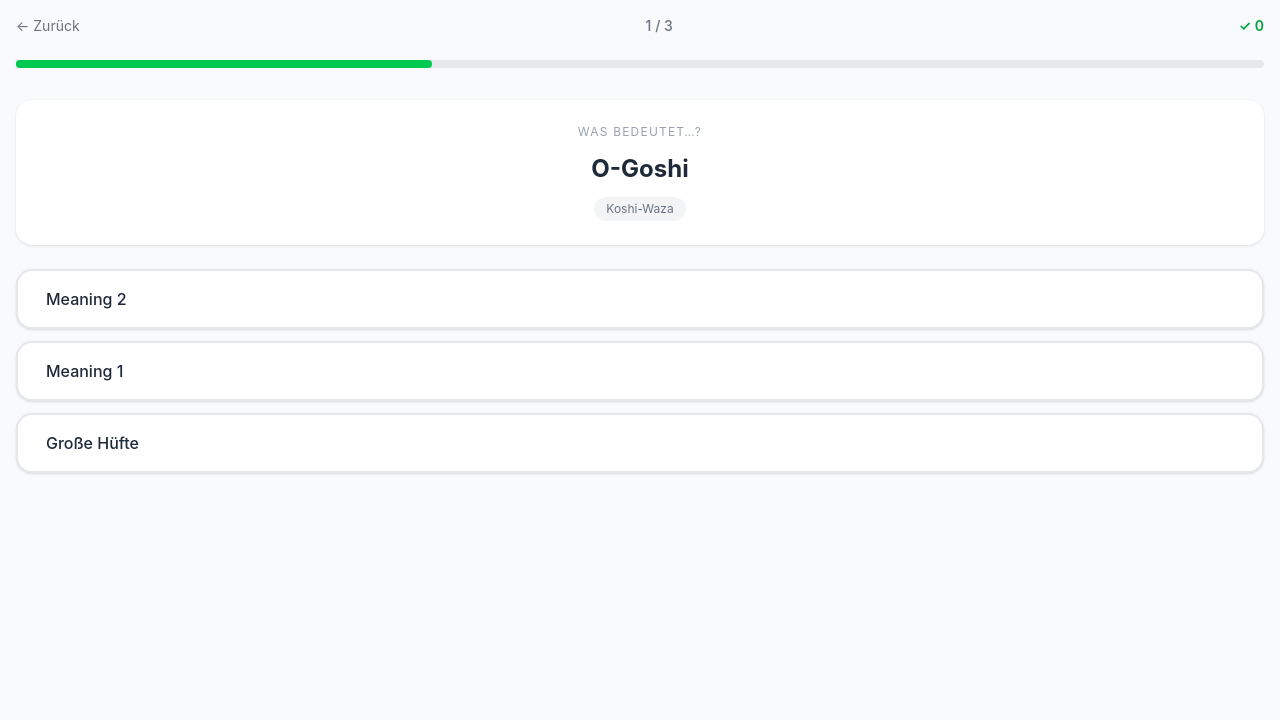
Quiz – score screen › shows 100% when all answers are correct
This screenshot has width=1280, height=720.
Step 1. Click the button with test id "choice-correct" → point(92, 443), box left=16, top=413, right=1264, bottom=473
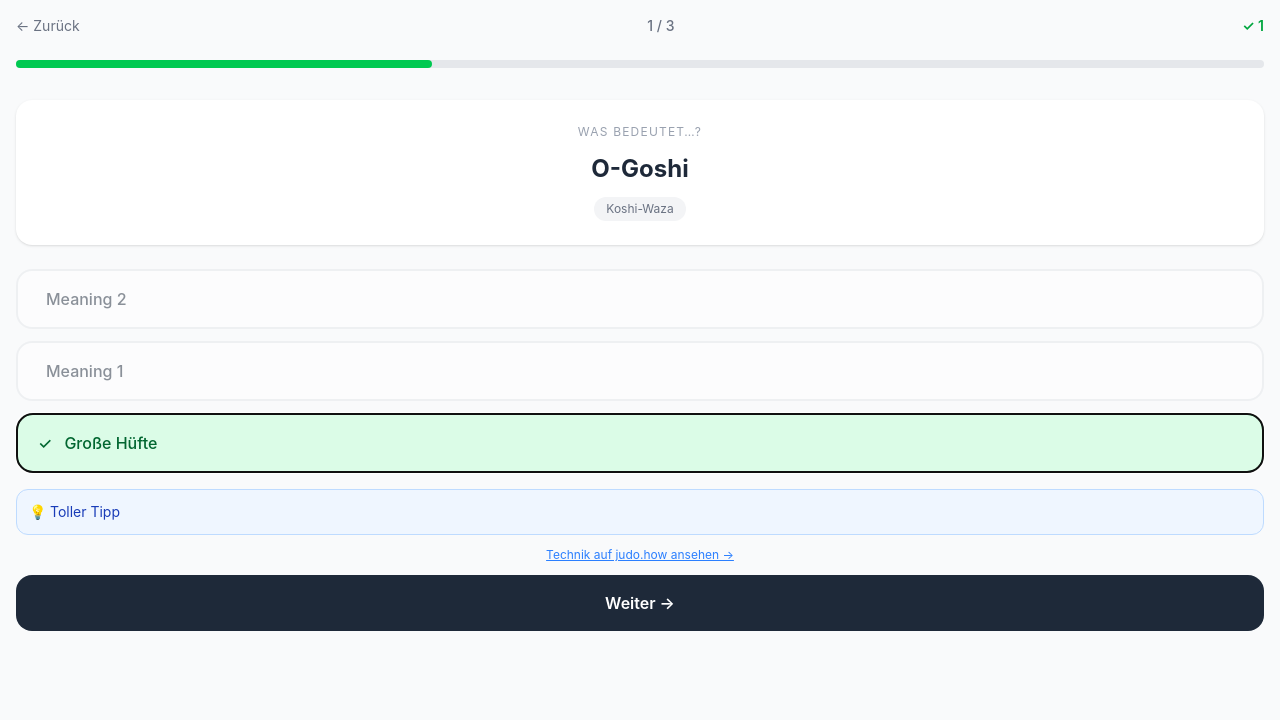
Step 2. Click the button with test id "next-btn" → point(640, 603), box left=16, top=575, right=1264, bottom=631
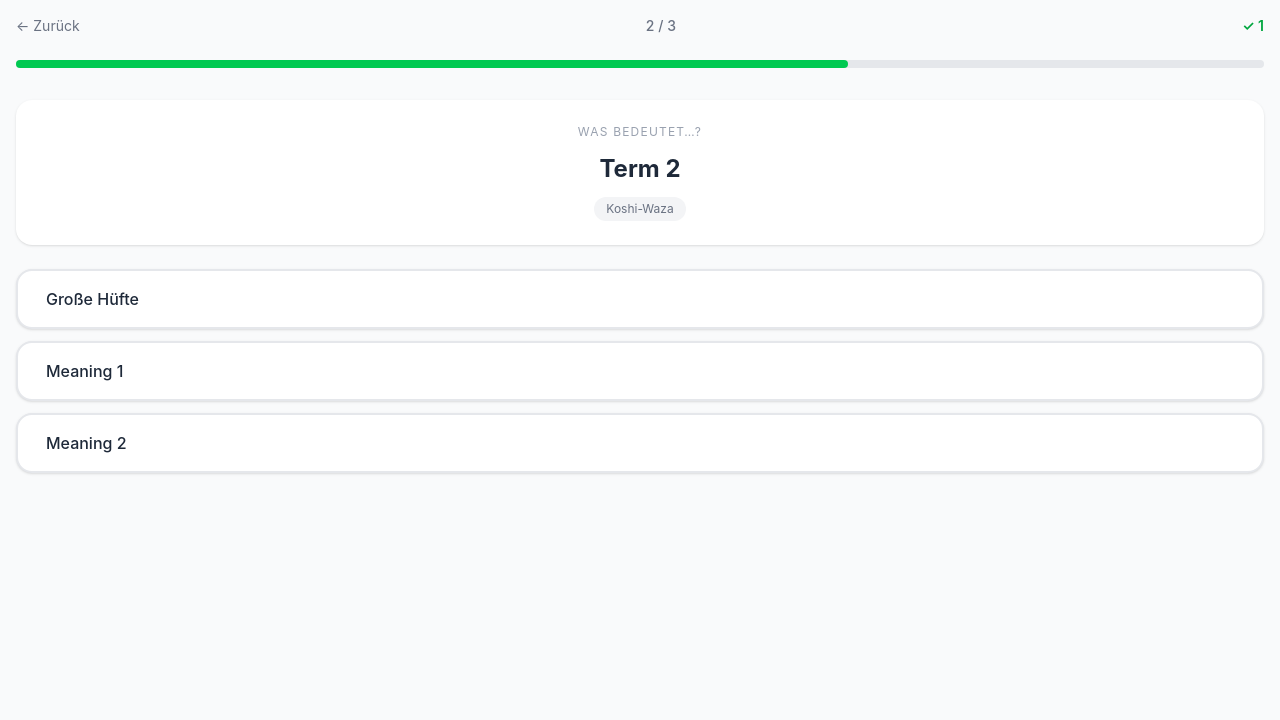
Step 3. Click the button with test id "choice-correct" → point(86, 443), box left=16, top=413, right=1264, bottom=473
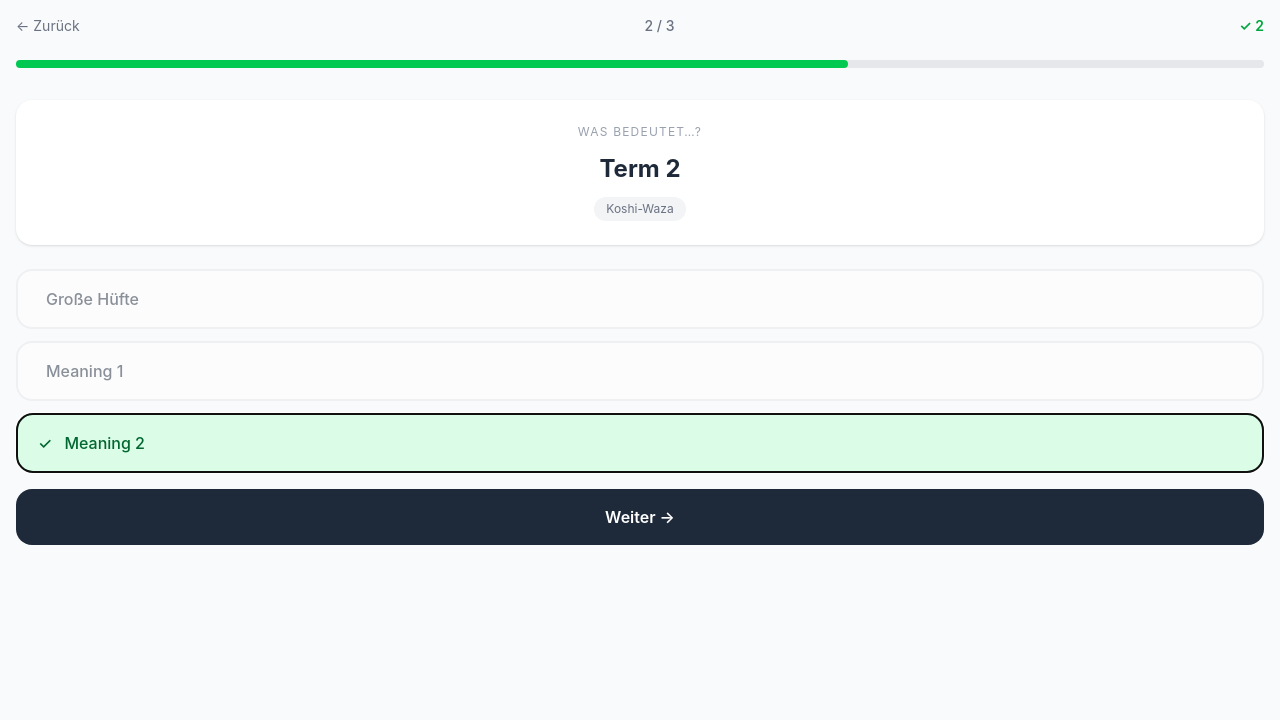
Step 4. Click the button with test id "next-btn" → point(640, 517), box left=16, top=489, right=1264, bottom=545
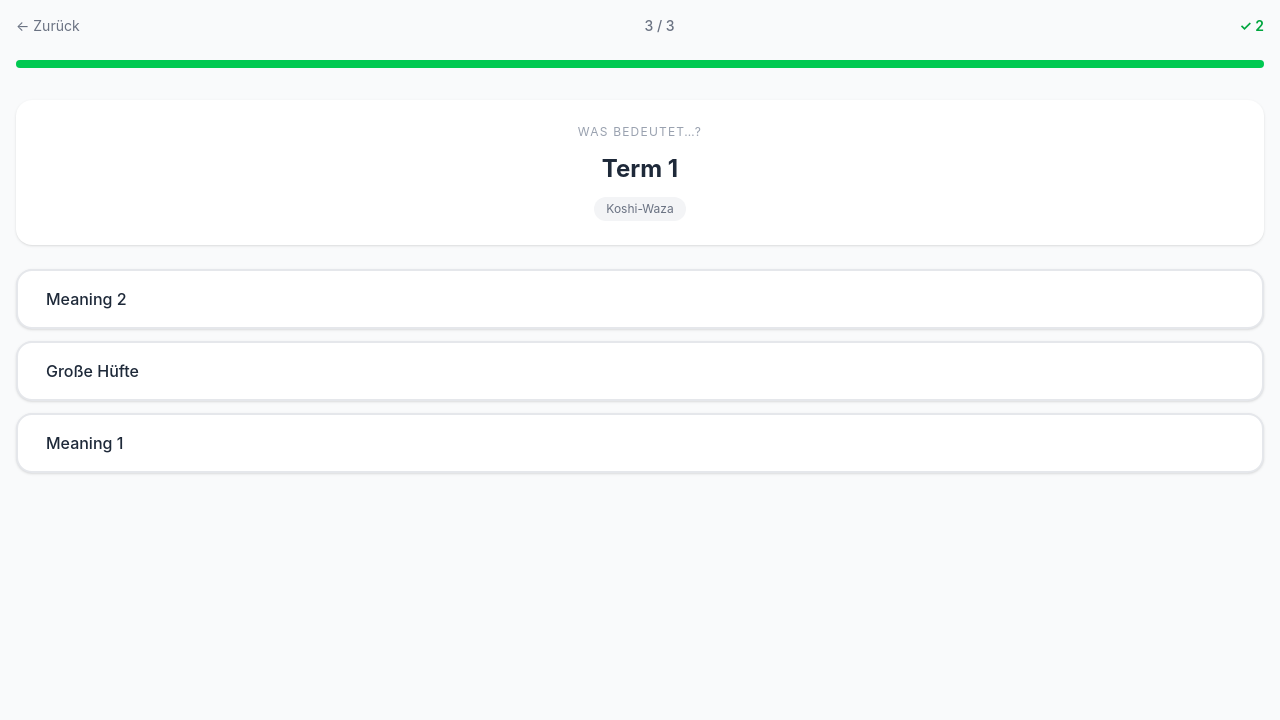
Step 5. Click the button with test id "choice-correct" → point(85, 443), box left=16, top=413, right=1264, bottom=473
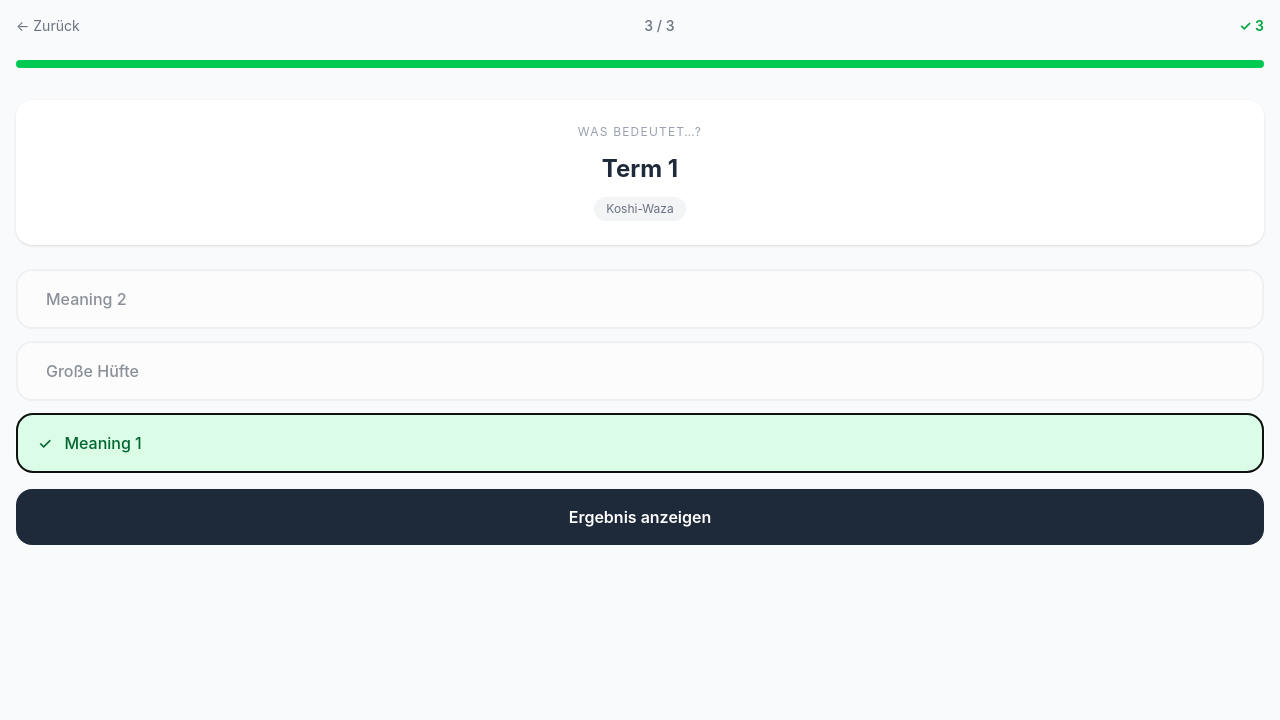
Step 6. Click the button with test id "next-btn" → point(640, 517), box left=16, top=489, right=1264, bottom=545
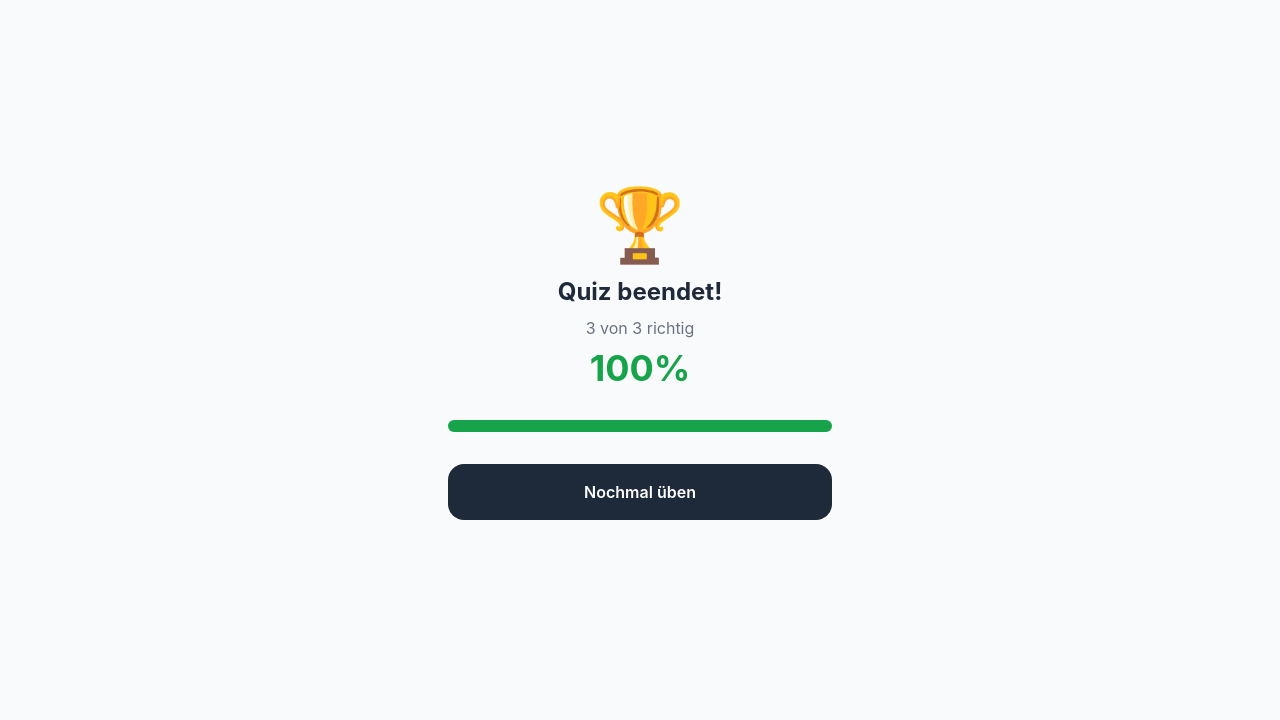
expect the text with test id "score-pct" reads "100%": met, box left=590, top=346, right=690, bottom=390
